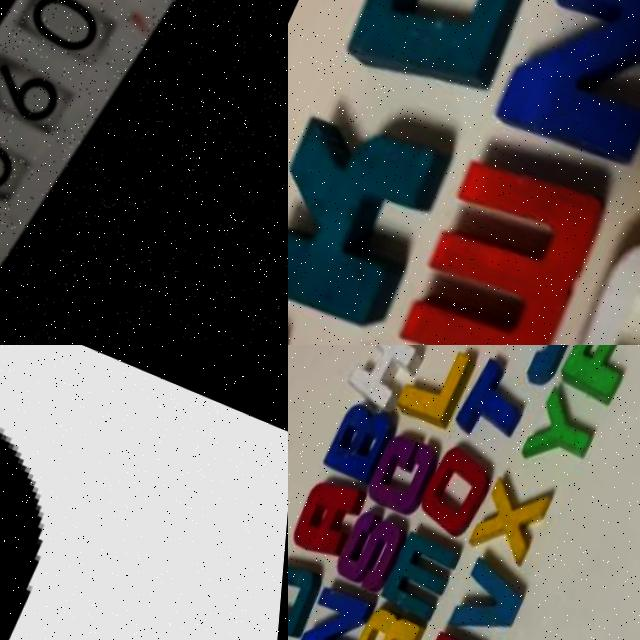0: (11, 0, 122, 67)
5: (0, 117, 37, 203)
6: (0, 43, 85, 140)
A: (289, 469, 371, 562)
B: (320, 393, 402, 487)
D: (336, 0, 563, 107), (288, 549, 330, 640)
F: (555, 345, 640, 401)
G: (367, 420, 455, 517)
H: (345, 345, 426, 406)
J: (492, 345, 580, 393)
K: (288, 98, 462, 332)
L: (395, 345, 479, 428)
M: (380, 522, 468, 625)
N: (490, 0, 640, 173), (294, 571, 385, 640)
O: (414, 438, 502, 537)
R: (344, 594, 435, 640)
S: (334, 491, 425, 595)
T: (454, 353, 545, 444)
U: (410, 620, 497, 640)
V: (450, 553, 537, 640)
W: (396, 138, 618, 345)
X: (471, 470, 556, 565)
Y: (522, 382, 609, 475)
